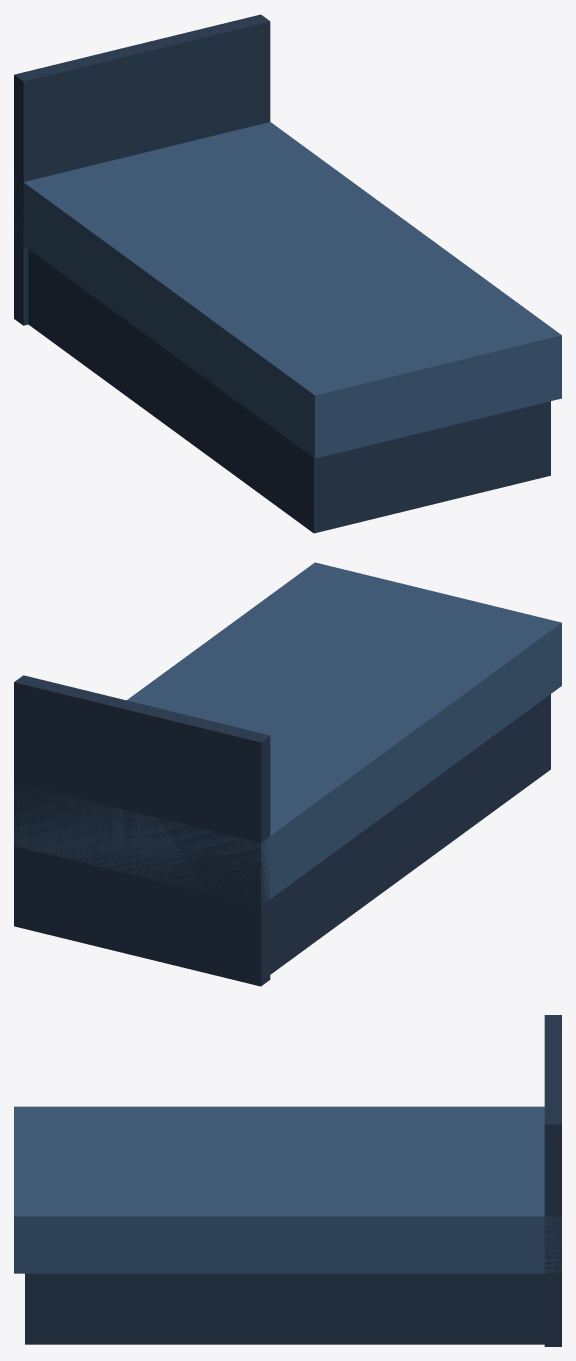
The model's file is bed_kids_single.glb.
3 views of the same model, one above another, from view 1: azimuth 30°, elevation 25°; view 2: azimuth 150°, elevation 25°; view 3: azimuth 270°, elevation 25° (orthographic). The views are drawn at different scales.
Visible parts, largest first — view 1: furniture; view 2: furniture; view 3: furniture.
Part boxes in pixels (x1,y1,x2,y2): furniture: [14, 14, 561, 533]; furniture: [14, 562, 561, 986]; furniture: [14, 1015, 561, 1346].
Bounding box in the file's own units: 0.9 × 0.85 × 1.9.
